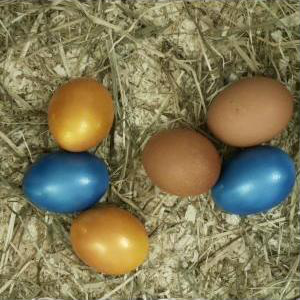egg: (205, 76, 295, 148), (210, 147, 296, 214), (70, 205, 150, 275), (142, 128, 222, 197), (24, 152, 110, 213), (47, 77, 115, 152)
